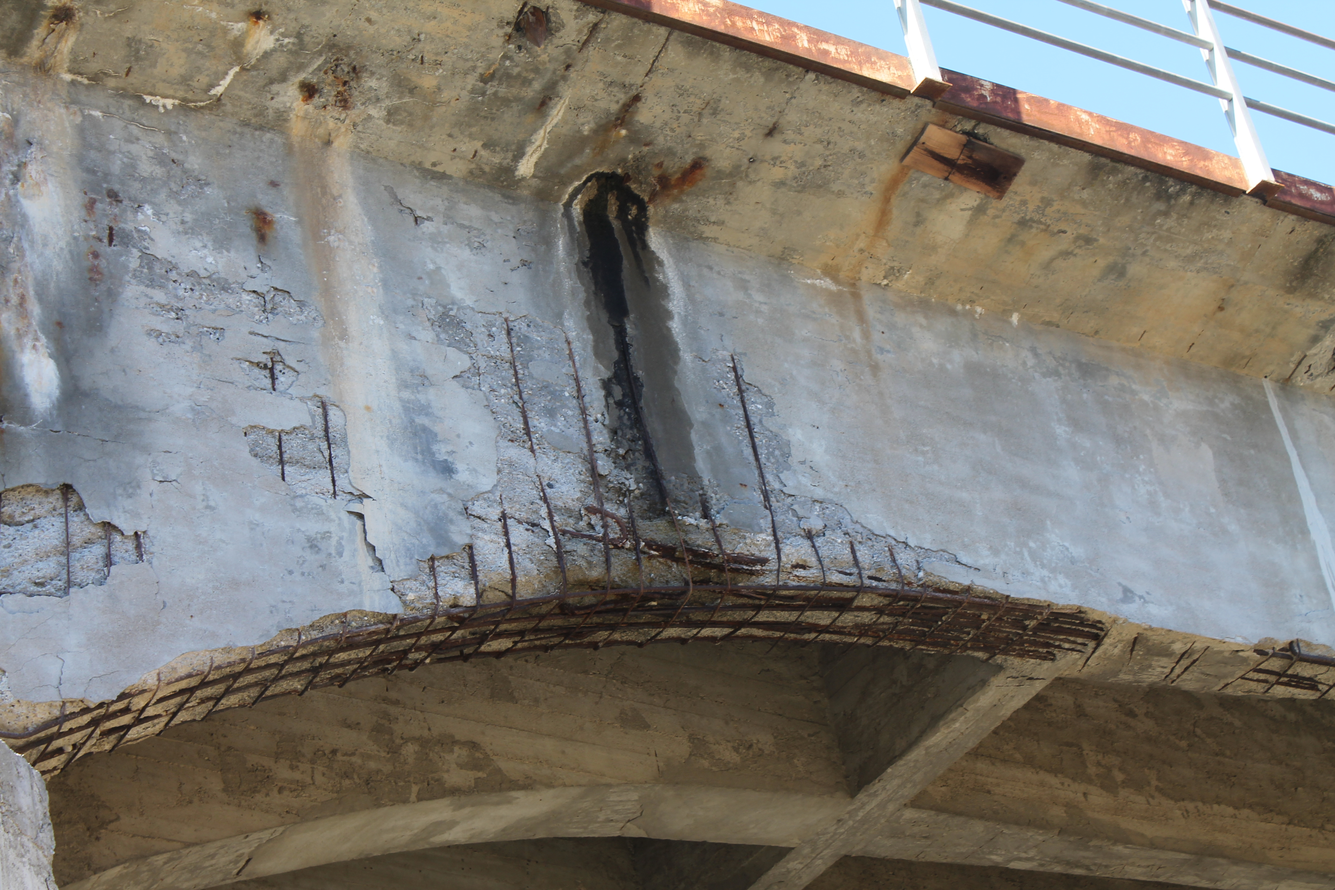Corrosion/Exposed rebar: (6, 72, 1331, 784), (8, 3, 1329, 394), (218, 839, 263, 882)
Leaching: (554, 205, 719, 576), (559, 167, 654, 222)
Spalling: (3, 61, 1334, 785), (3, 0, 1332, 398), (202, 833, 278, 888)
